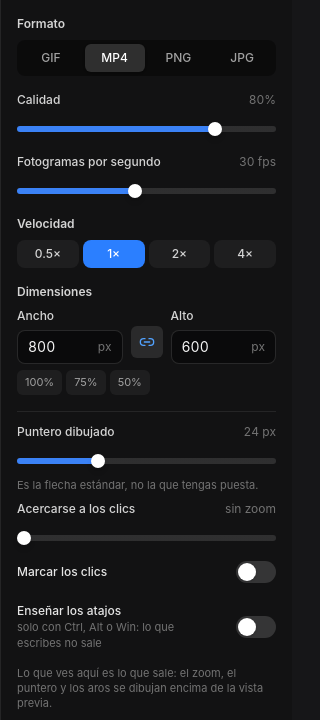
Scenario: JPG, la captura que se puede mandar por correo › el PNG sigue sin barra de calidad, porque no pierde nada
Click the button "PNG" at coordinates (178, 58), box top-left (148, 44), bottom-right (208, 72)
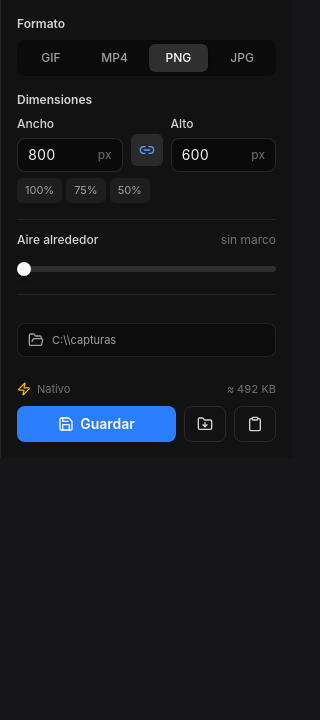
Now the text "Calidad" is gone
